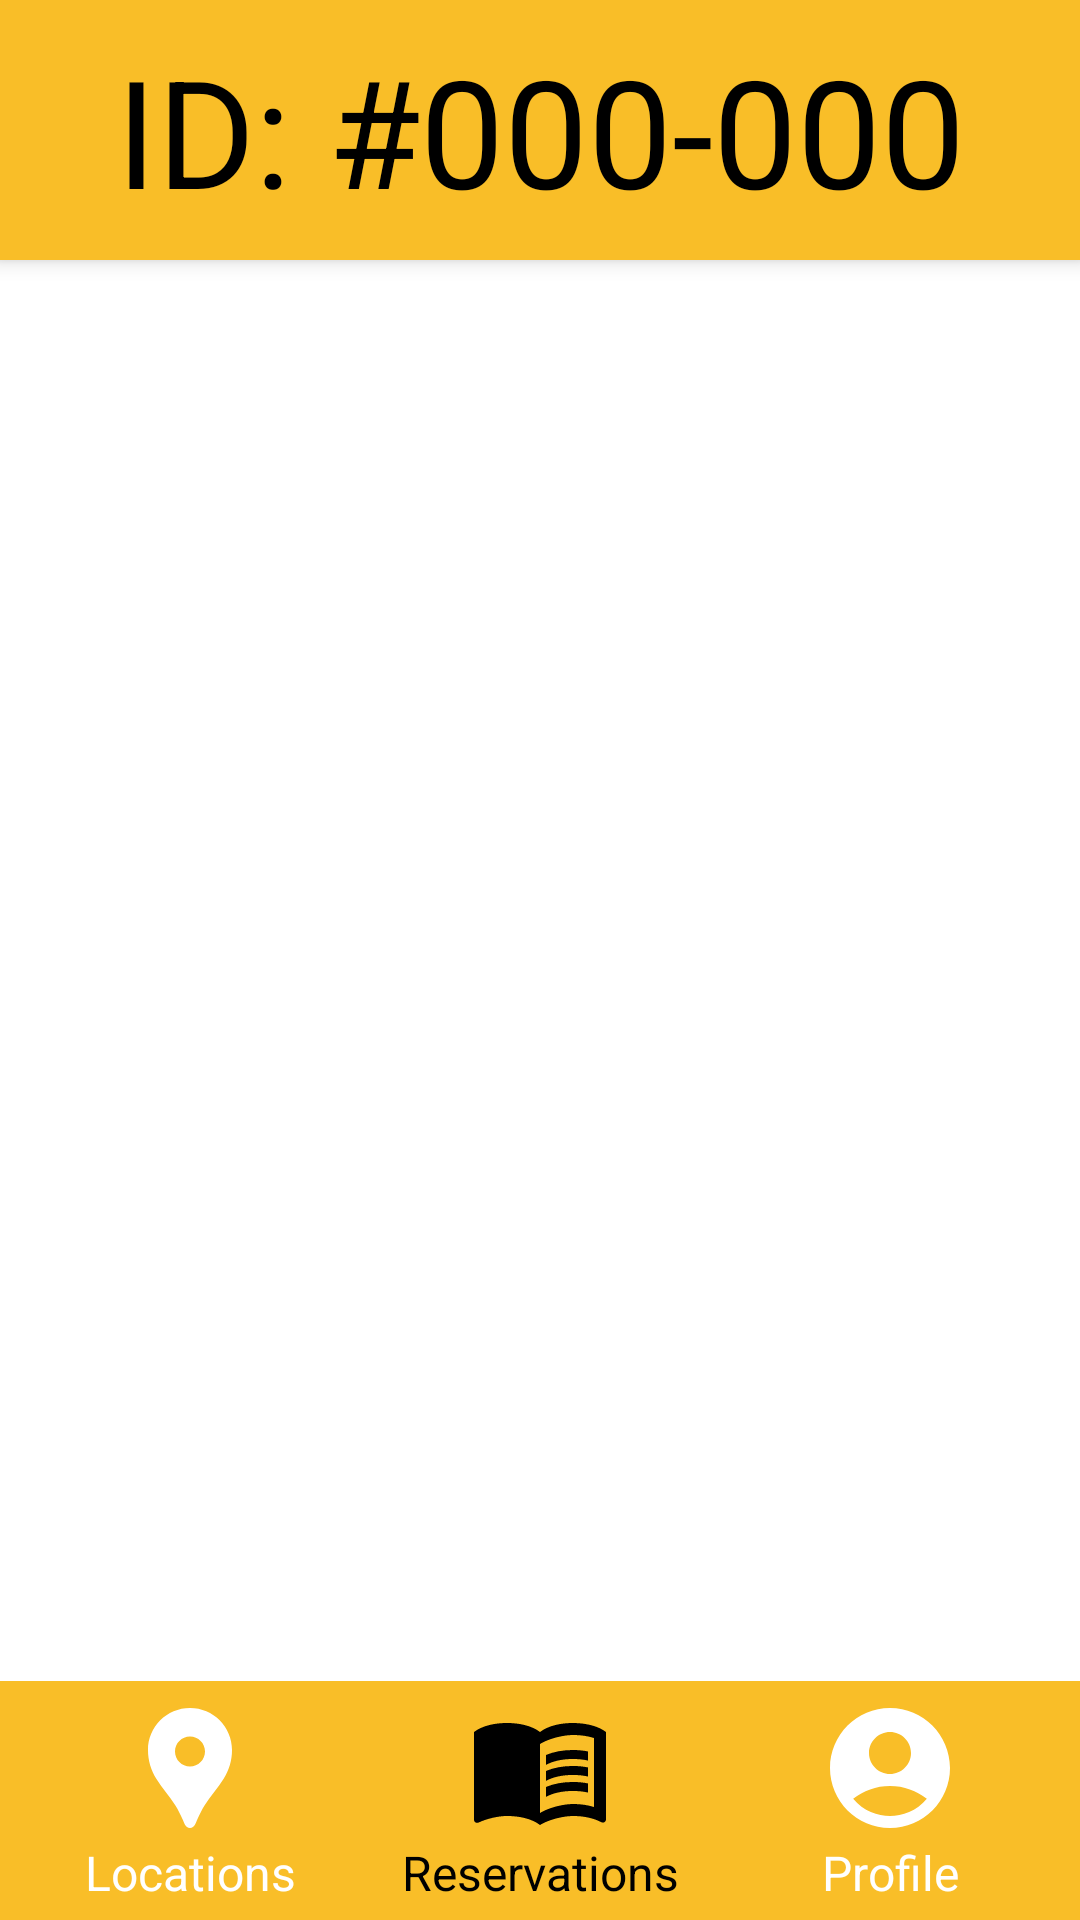

Locate icon controls on the screen. Image size 1080px×1920px, boxes as (x1, y1, x2, y2).
account circle: (830, 1708, 950, 1828)
book: (474, 1723, 606, 1825)
location pin: (148, 1708, 232, 1828)
